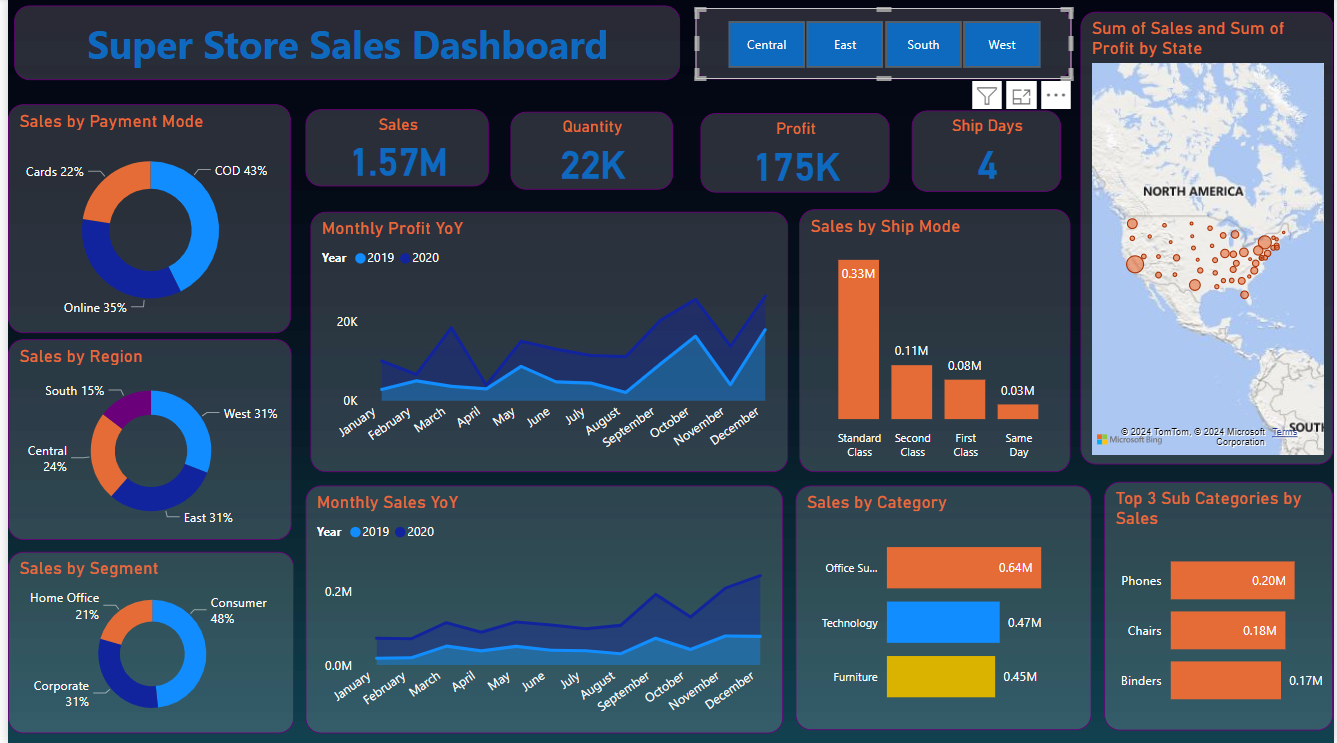

What the dashboard file says about the page in this screenshot:
{"tool":"powerbi","page":{"name":"Dashboard","canvas":[1280,720],"ordinal":0},"visuals":[{"type":"clusteredBarChart","title":"Sales by Category","fields":{"Category":["SuperStore_Sales_Dataset.Category"],"Y":["Sum(SuperStore_Sales_Dataset.Sales)"]},"box":[759.8,470.4,285.8,236.4],"z":0},{"type":"clusteredBarChart","title":"Top 3 Sub Categories by Sales","fields":{"Category":["SuperStore_Sales_Dataset.Sub-Category"],"Y":["Sum(SuperStore_Sales_Dataset.Sales)"]},"box":[1057.7,466.7,220.7,240],"z":1000},{"type":"columnChart","title":"Sales by Ship Mode","fields":{"Category":["SuperStore_Sales_Dataset.Ship Mode"],"Y":["Sum(SuperStore_Sales_Dataset.Sales)"]},"box":[763.4,203.8,261.7,253.3],"z":2000},{"type":"stackedAreaChart","title":"Monthly Sales YoY","fields":{"Y":["Sum(SuperStore_Sales_Dataset.Sales)"],"Series":["SuperStore_Sales_Dataset.Order Date.Variation.Date Hierarchy.Year"],"Category":["SuperStore_Sales_Dataset.Order Date.Variation.Date Hierarchy.Month"]},"box":[286.8,470.4,461.1,239],"z":3000},{"type":"stackedAreaChart","title":"Monthly Profit YoY","fields":{"Series":["SuperStore_Sales_Dataset.Order Date.Variation.Date Hierarchy.Year"],"Category":["SuperStore_Sales_Dataset.Order Date.Variation.Date Hierarchy.Month"],"Y":["Sum(SuperStore_Sales_Dataset.Profit)"]},"box":[292.3,205.8,461.1,251.1],"z":4000},{"type":"map","fields":{"Category":["SuperStore_Sales_Dataset.State"],"Size":["Sum(SuperStore_Sales_Dataset.Sales)"]},"box":[1034.8,13.3,243.6,436.6],"z":5000},{"type":"donutChart","title":"Sales by Segment","fields":{"Y":["Sum(SuperStore_Sales_Dataset.Sales)"],"Category":["SuperStore_Sales_Dataset.Segment"]},"box":[0,534.1,276.1,175.4],"z":6000},{"type":"donutChart","title":"Sales by Payment Mode","fields":{"Y":["Sum(SuperStore_Sales_Dataset.Sales)"],"Category":["SuperStore_Sales_Dataset.Payment Mode"]},"box":[0,102.9,272.5,220.9],"z":7000},{"type":"slicer","fields":{"Values":["SuperStore_Sales_Dataset.Region"]},"box":[663.9,9.6,362.3,68.6],"z":8000},{"type":"textbox","box":[5.5,6.9,642.2,71.6],"z":9000},{"type":"card","title":"Sales","fields":{"Values":["Sum(SuperStore_Sales_Dataset.Sales)"]},"box":[287.3,107.3,177,74.1],"z":10000},{"type":"card","title":"Quantity","fields":{"Values":["Sum(SuperStore_Sales_Dataset.Quantity)"]},"box":[484.7,109.5,156.4,75.5],"z":11000},{"type":"card","title":"Profit","fields":{"Values":["Sum(SuperStore_Sales_Dataset.Profit)"]},"box":[668.5,111.1,182.5,76.8],"z":12000},{"type":"card","title":"Ship Days","fields":{"Values":["Avg(SuperStore_Sales_Dataset.AVGDelivery)"]},"box":[872.5,108.7,144.1,78.2],"z":13000},{"type":"donutChart","title":"Sales by Region","fields":{"Y":["Sum(SuperStore_Sales_Dataset.Sales)"],"Category":["SuperStore_Sales_Dataset.Region"]},"box":[0,329.3,273.6,193.8],"z":14000}]}

Visuals, with their boxes in screenshot pixels (x1, y1, x2, y2), scaled from the page's 1280x720 canvas onto the 1337x743 screenshot:
"Sales by Category" clusteredBarChart: (x1=794, y1=485, x2=1092, y2=729)
"Top 3 Sub Categories by Sales" clusteredBarChart: (x1=1105, y1=482, x2=1335, y2=729)
"Sales by Ship Mode" columnChart: (x1=797, y1=210, x2=1071, y2=472)
"Monthly Sales YoY" stackedAreaChart: (x1=300, y1=485, x2=781, y2=732)
"Monthly Profit YoY" stackedAreaChart: (x1=305, y1=212, x2=787, y2=471)
map - SuperStore_Sales_Dataset.State x Sum(SuperStore_Sales_Dataset.Sales): (x1=1081, y1=14, x2=1335, y2=464)
"Sales by Segment" donutChart: (x1=0, y1=551, x2=288, y2=732)
"Sales by Payment Mode" donutChart: (x1=0, y1=106, x2=285, y2=334)
slicer - SuperStore_Sales_Dataset.Region: (x1=693, y1=10, x2=1072, y2=81)
textbox: (x1=6, y1=7, x2=677, y2=81)
"Sales" card: (x1=300, y1=111, x2=485, y2=187)
"Quantity" card: (x1=506, y1=113, x2=670, y2=191)
"Profit" card: (x1=698, y1=115, x2=889, y2=194)
"Ship Days" card: (x1=911, y1=112, x2=1062, y2=193)
"Sales by Region" donutChart: (x1=0, y1=340, x2=286, y2=540)
